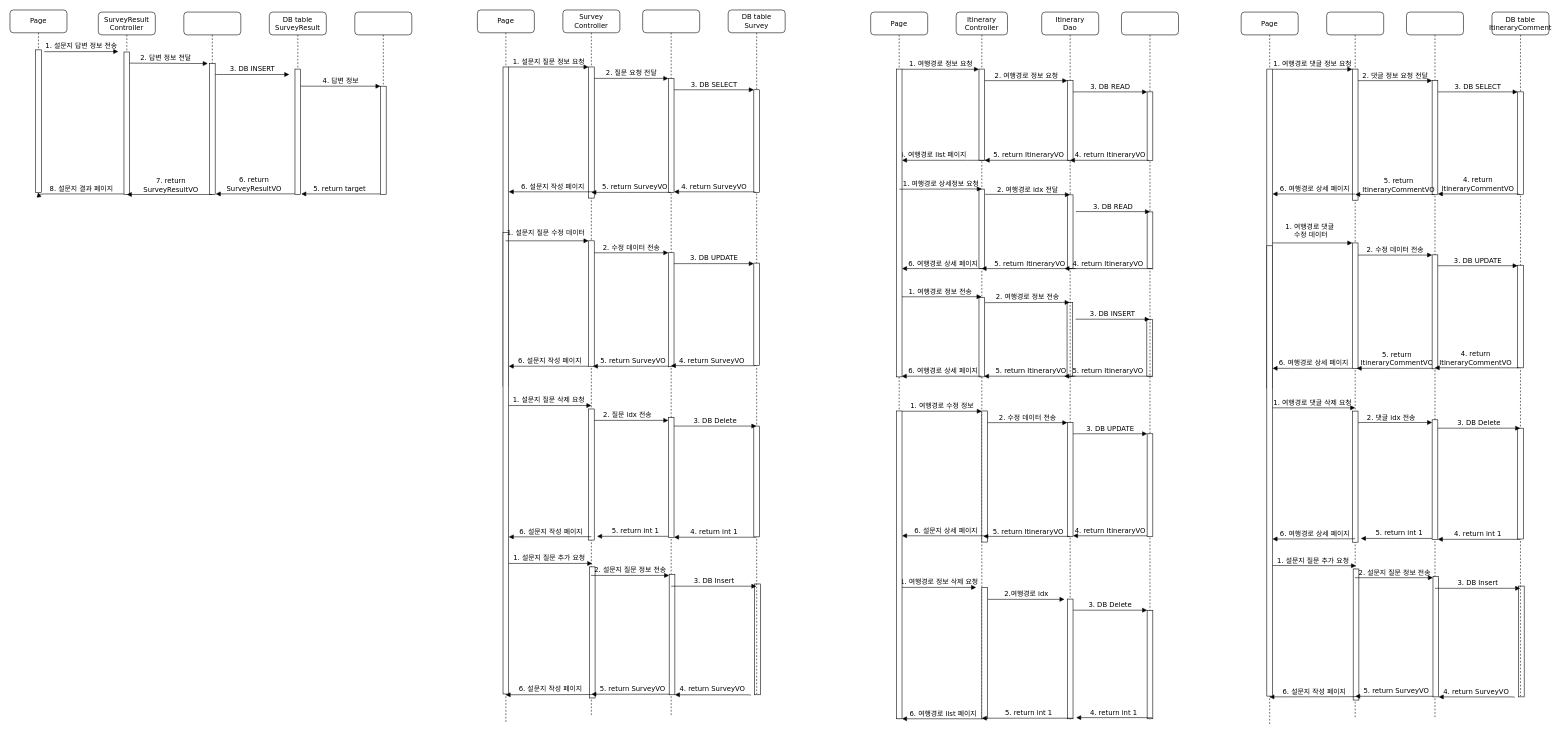
The diagram is 1562 pixels wide and 735 high, and some of its shapes have lost their labels. Here are the shapes that lost their labels. From the top down, the box of each, then its label:
(183, 12, 241, 194): SurveyResult Dao
(354, 12, 412, 194): ML Server
(642, 9, 700, 716): Survey Dao
(1121, 12, 1178, 719): DB table Itinerary
(1326, 12, 1384, 719): ItineraryComment Controller
(1406, 12, 1463, 718): ItineraryComment Dao
